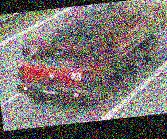truck: (7, 0, 167, 115)
